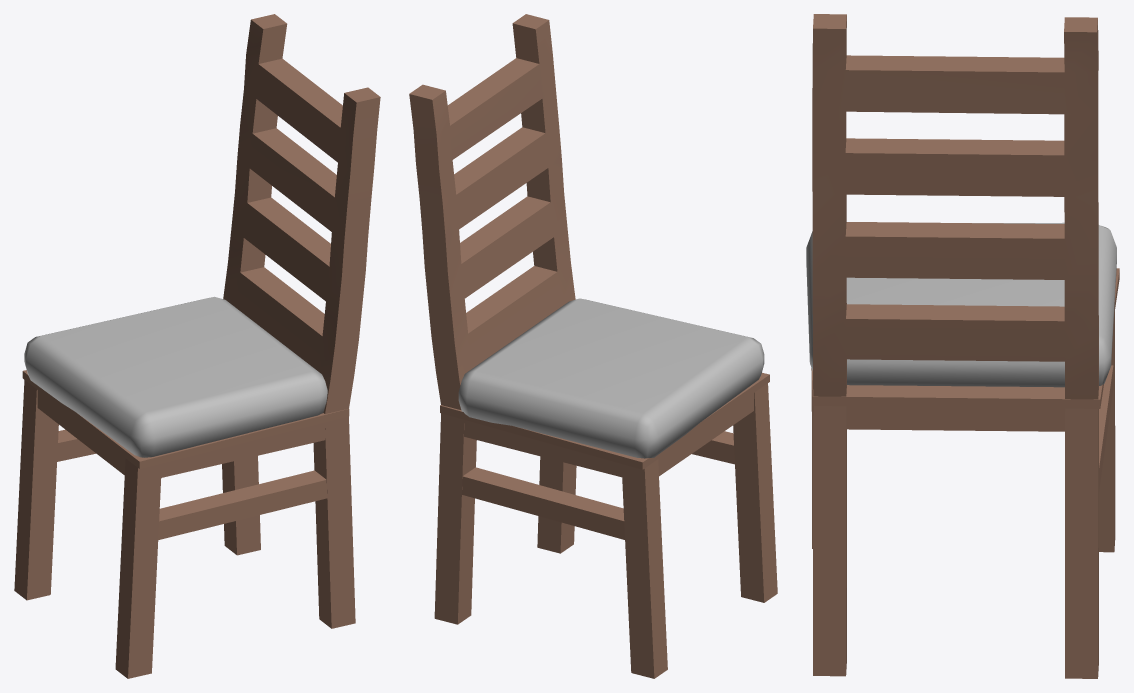
Rendered from Chair.fbx.
The picture shows the model from 3 angles, left to right: view 1: azimuth 30°, elevation 25°; view 2: azimuth 150°, elevation 25°; view 3: azimuth 270°, elevation 25°; orthographic projection. The views are drawn at different scales.
Visible parts, largest first — view 1: pasted__polySurface19, pasted__pCube1; view 2: pasted__polySurface19, pasted__pCube1; view 3: pasted__polySurface19, pasted__pCube1.
Boxes of the visible parts, x1=… form: pasted__polySurface19: x1=14, y1=14, x2=380, y2=678; pasted__pCube1: x1=24, y1=296, x2=327, y2=457; pasted__polySurface19: x1=409, y1=14, x2=777, y2=678; pasted__pCube1: x1=458, y1=298, x2=764, y2=458; pasted__polySurface19: x1=811, y1=14, x2=1119, y2=678; pasted__pCube1: x1=806, y1=222, x2=1116, y2=387.
Bounding box in the file's own units: 5.77 × 11.09 × 4.76.
